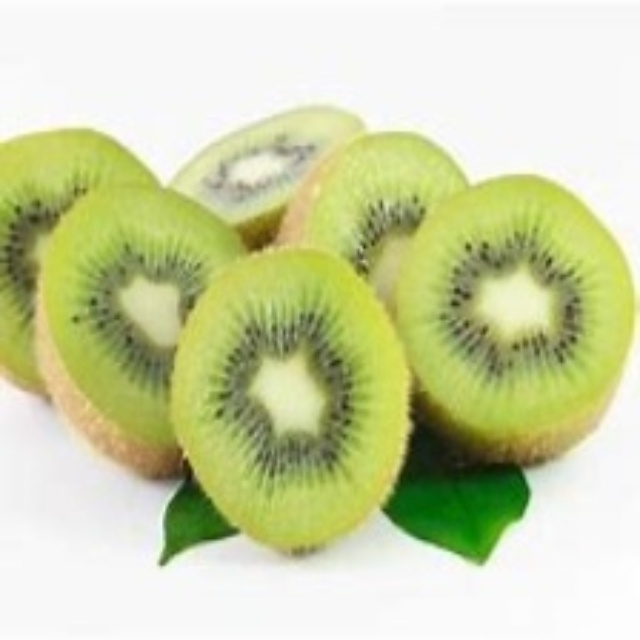kiwi: (3, 130, 247, 480), (173, 246, 427, 555), (402, 173, 634, 460), (292, 134, 465, 304)
